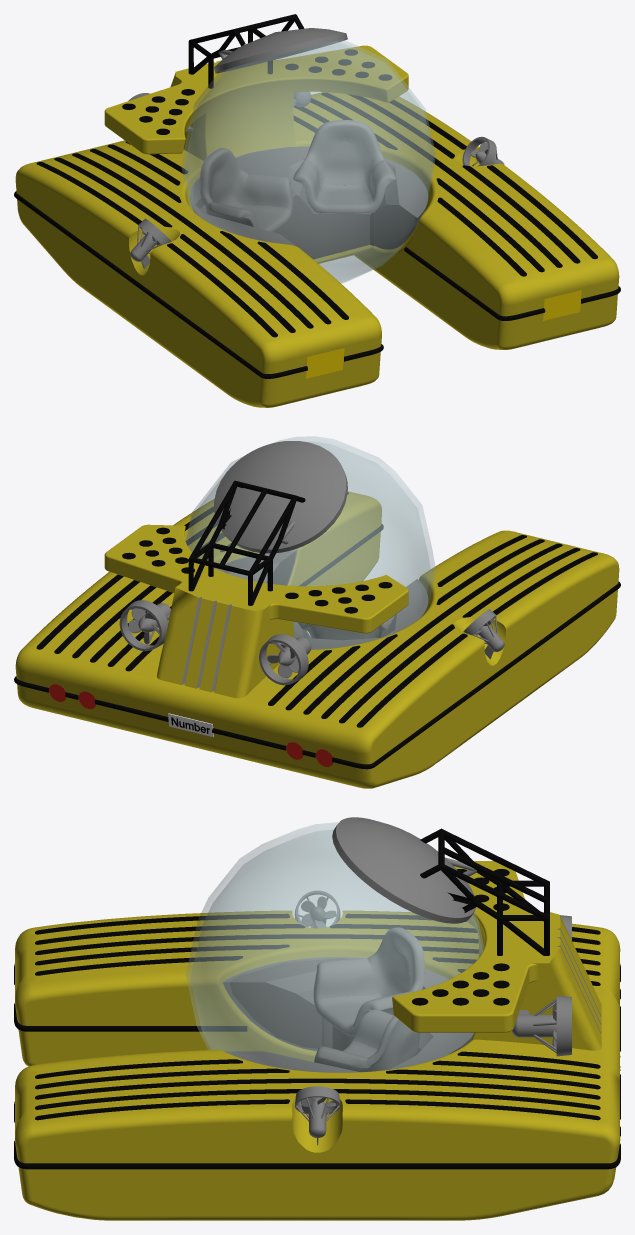
The picture shows the model from 3 angles, top to bottom: view 1: azimuth 30°, elevation 25°; view 2: azimuth 150°, elevation 25°; view 3: azimuth 270°, elevation 25°; orthographic projection. The views are drawn at different scales.
Parts seen in each view (by area): view 1: Steel, outer_glass, inner_glass, rubber, interior, chair_3, chair_4, cap, equipment, frame1, frame5, Light_F_L (+1 smaller); view 2: Steel, outer_glass, inner_glass, rubber, cap, equipment, interior, frame1, frame5, chair_4, prop_F_L, prop_F_R (+2 smaller); view 3: Steel, outer_glass, inner_glass, rubber, interior, cap, chair_4, equipment, chair_3, frame1, frame5, frame2 (+1 smaller).
Part boxes in pixels (x1,y1,x2,y2): Steel: (15,45,619,407); outer_glass: (182,40,435,283); inner_glass: (185,41,433,282); rubber: (14,49,620,378); interior: (189,146,428,259); chair_3: (293,120,396,213); chair_4: (199,148,293,232); cap: (214,28,347,73); equipment: (128,62,504,268); frame1: (188,14,304,74); frame5: (208,14,295,88); Light_F_L: (543,290,581,320); Steel: (15,491,619,788); outer_glass: (185,436,435,649); inner_glass: (186,441,431,648); rubber: (14,492,620,769); cap: (214,441,347,553); equipment: (119,597,504,691); interior: (223,550,428,649); frame1: (188,480,305,605); frame5: (208,481,297,591); chair_4: (298,615,394,640); prop_F_L: (128,608,159,644); prop_F_R: (267,642,298,677); Steel: (15,861,620,1220); outer_glass: (186,822,483,1071); inner_glass: (190,830,482,1071); rubber: (14,869,620,1169); interior: (222,956,473,1072); cap: (332,817,475,923); chair_4: (313,927,424,1036); equipment: (294,891,601,1145); chair_3: (314,1009,420,1071); frame1: (420,828,549,955); frame5: (438,829,502,955); frame2: (443,847,547,902).
Bounding box in the file's own units: 2.51 × 1.58 × 2.98.
